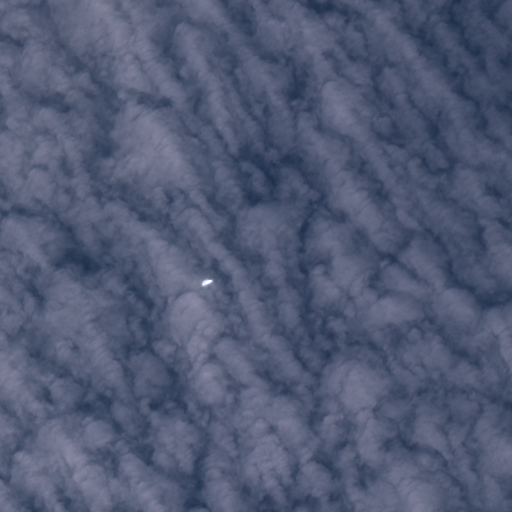Iceberg: (202, 279, 212, 285)
